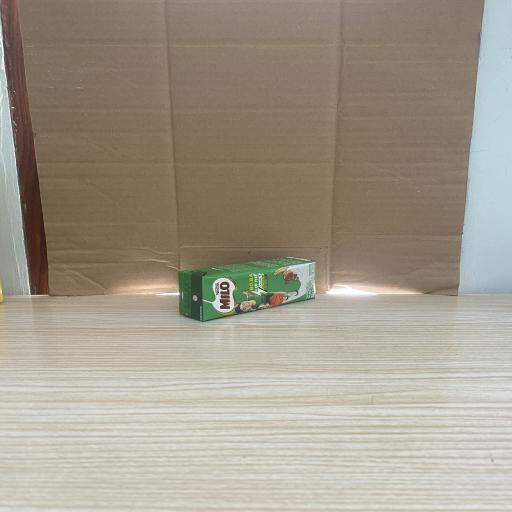milo: (178, 256, 316, 322)
